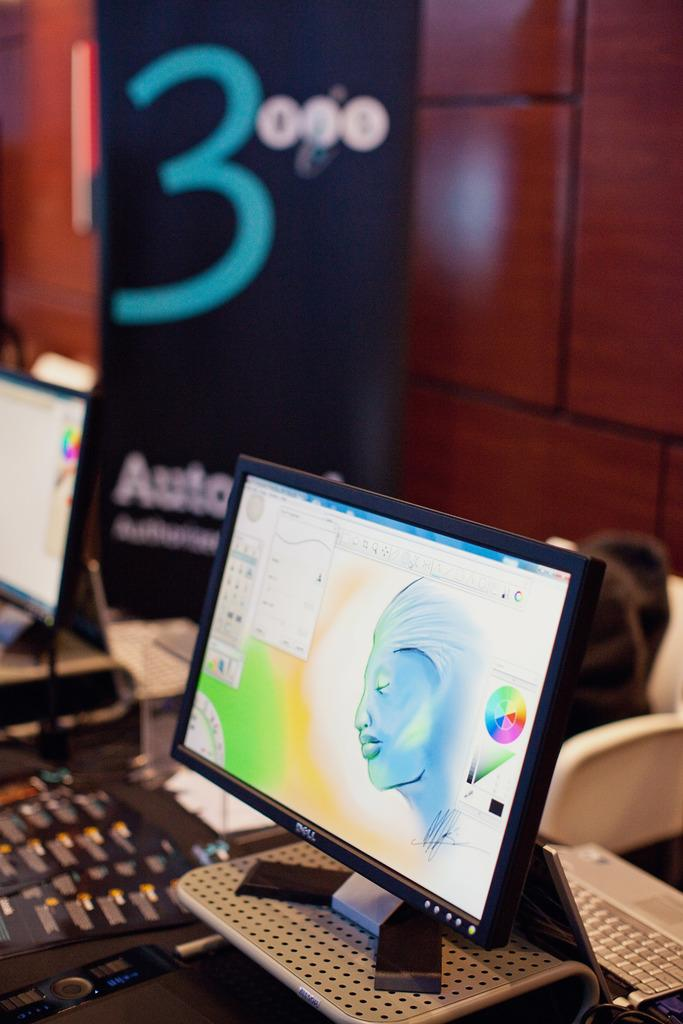Computer-keyboard: (565, 870, 682, 1001)
Computer-monitor: (146, 428, 615, 1008)
